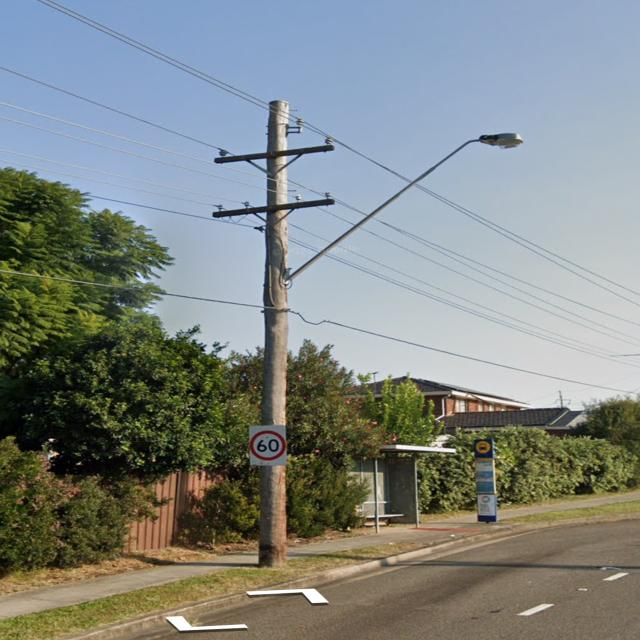HV-transmission: (218, 119, 334, 164)
crossarm: (212, 198, 334, 218), (214, 144, 335, 164)
streetlight: (286, 132, 523, 286)
timber-pole: (256, 101, 290, 568)
